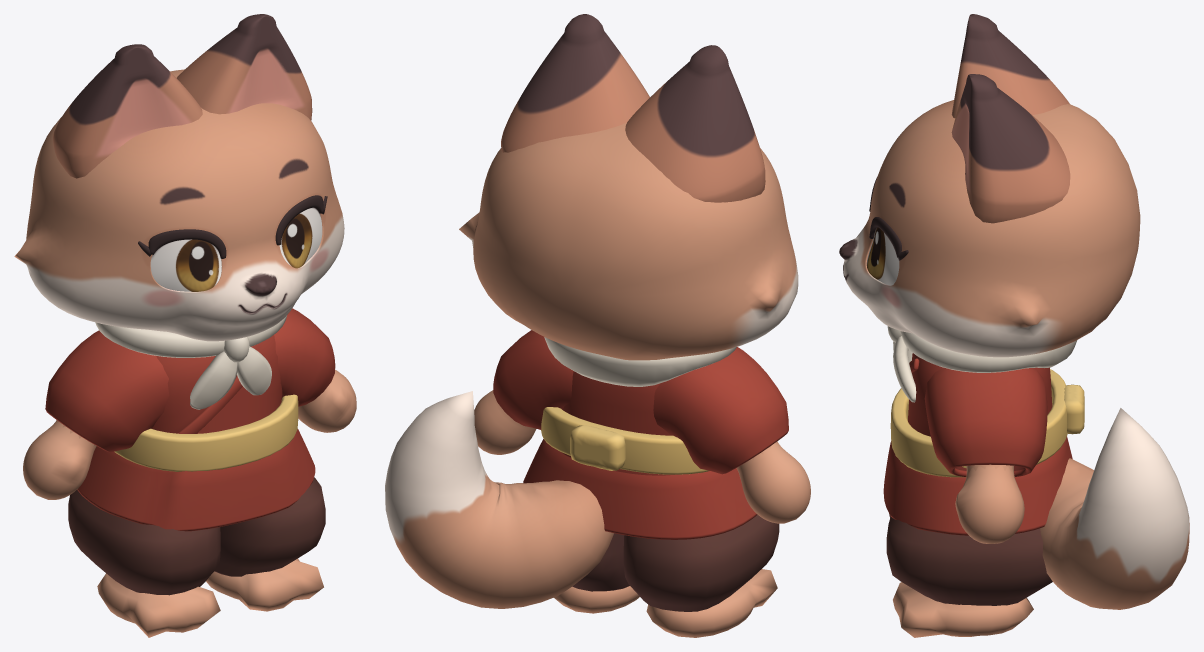
Rendered from ak-kaede-toy.glb.
3 views of the same model, side by side, from view 1: azimuth 30°, elevation 25°; view 2: azimuth 150°, elevation 25°; view 3: azimuth 270°, elevation 25° (orthographic). The views are drawn at different scales.
Visible parts, largest first — view 1: Kaede_head, Kaede_body, Kaede_trousers, Kaede_kimono_skirt, Kaede_ear_R, Kaede_sleeve_R, Kaede_ear_L, Kaede_kerchief, Kaede_sleeve_L, Kaede_arm_R, Kaede_eye_R, Kaede_arm_L (+3 smaller); view 2: Kaede_head, Kaede_tail, Kaede_body, Kaede_ear_R, Kaede_ear_L, Kaede_trousers, Kaede_kimono_skirt, Kaede_sleeve_R, Kaede_sleeve_L, Kaede_arm_R, Kaede_kerchief, Kaede_arm_L; view 3: Kaede_head, Kaede_tail, Kaede_ear_L, Kaede_sleeve_L, Kaede_body, Kaede_trousers, Kaede_kimono_skirt, Kaede_ear_R, Kaede_arm_L, Kaede_kerchief, Kaede_eye_L, Kaede_lash_L.
Part boxes in pixels (box(x1,y1,x2,y2)): Kaede_head: box(14, 69, 344, 341); Kaede_body: box(97, 335, 323, 637); Kaede_trousers: box(68, 477, 325, 595); Kaede_kimono_skirt: box(77, 429, 315, 531); Kaede_ear_R: box(53, 44, 202, 178); Kaede_sleeve_R: box(45, 330, 169, 452); Kaede_ear_L: box(177, 14, 312, 120); Kaede_kerchief: box(95, 315, 286, 409); Kaede_sleeve_L: box(274, 308, 335, 406); Kaede_arm_R: box(23, 420, 96, 499); Kaede_eye_R: box(150, 239, 221, 291); Kaede_arm_L: box(298, 369, 356, 432); Kaede_head: box(459, 122, 798, 360); Kaede_tail: box(385, 391, 613, 608); Kaede_body: box(541, 371, 777, 637); Kaede_ear_R: box(625, 45, 765, 202); Kaede_ear_L: box(501, 14, 649, 152); Kaede_trousers: box(572, 515, 779, 611); Kaede_kimono_skirt: box(523, 439, 757, 539); Kaede_sleeve_R: box(653, 347, 788, 474); Kaede_sleeve_L: box(493, 330, 573, 429); Kaede_arm_R: box(736, 441, 810, 523); Kaede_kerchief: box(544, 337, 736, 386); Kaede_arm_L: box(474, 390, 536, 454); Kaede_head: box(839, 100, 1140, 357); Kaede_tail: box(1040, 408, 1189, 609); Kaede_ear_L: box(951, 74, 1070, 223); Kaede_sleeve_L: box(924, 367, 1047, 476); Kaede_body: box(890, 353, 1084, 637); Kaede_trousers: box(886, 513, 1052, 605); Kaede_kimono_skirt: box(883, 436, 1072, 535); Kaede_ear_R: box(951, 14, 1069, 118); Kaede_arm_L: box(955, 464, 1024, 543); Kaede_kerchief: box(887, 326, 1077, 402); Kaede_eye_L: box(866, 227, 899, 285); Kaede_lash_L: box(869, 217, 908, 260).
Bounding box in the file's own units: 0.6988 × 1.13 × 0.6486.
1 material, 1 textured.
